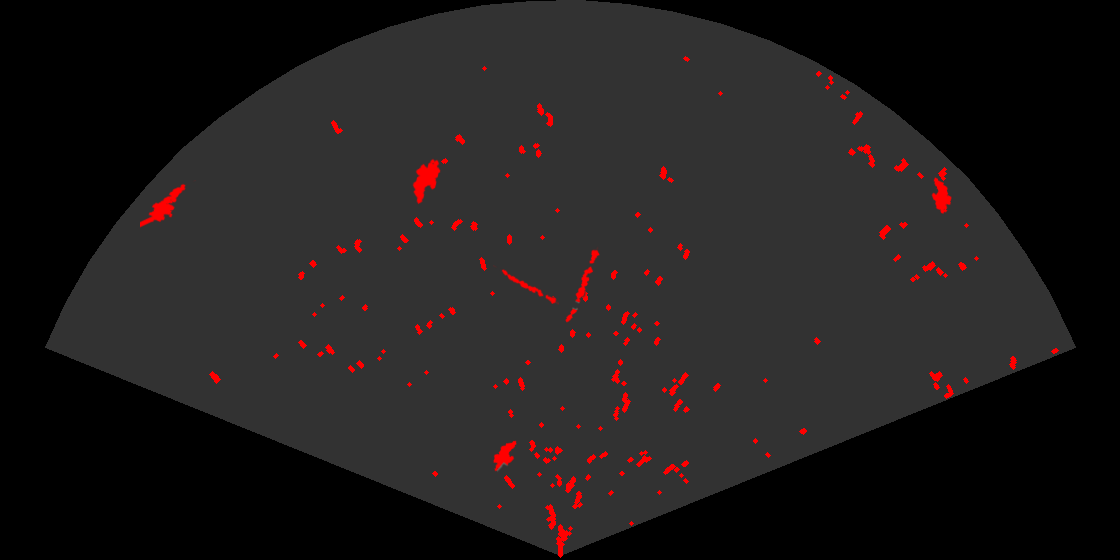AUV: (411, 157, 442, 206), (930, 175, 953, 216), (492, 439, 518, 473)
chain: (564, 246, 601, 324), (493, 265, 559, 306)
frogman: (140, 180, 196, 229)
